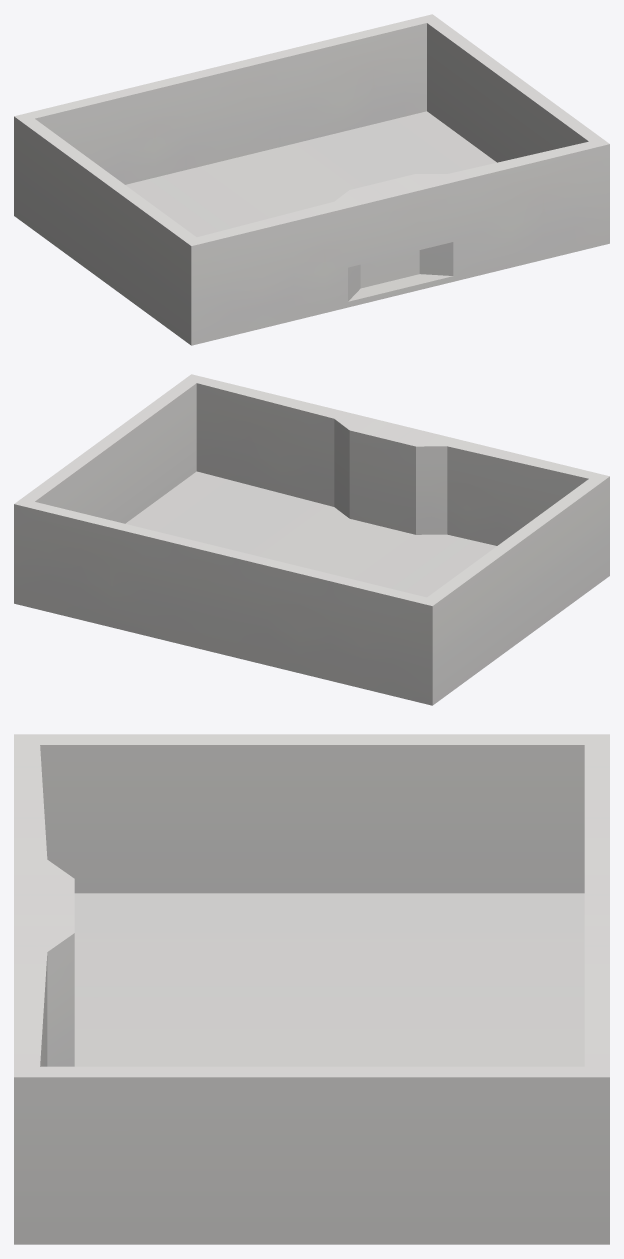
File: PhotoCopier_Drawer_4.fbx
3 renders of one model, top to bottom at view 1: azimuth 30°, elevation 25°; view 2: azimuth 150°, elevation 25°; view 3: azimuth 270°, elevation 25°, orthographic. The views are drawn at different scales.
Visible parts, largest first — view 1: PhotoCopier_Drawer_4; view 2: PhotoCopier_Drawer_4; view 3: PhotoCopier_Drawer_4.
Part boxes in pixels (box(x1,y1,x2,y2)): PhotoCopier_Drawer_4: box(14, 14, 609, 345); PhotoCopier_Drawer_4: box(14, 374, 609, 705); PhotoCopier_Drawer_4: box(14, 734, 609, 1244).
Size of the model in its own units: 47.85 by 10.88 by 35.14.
